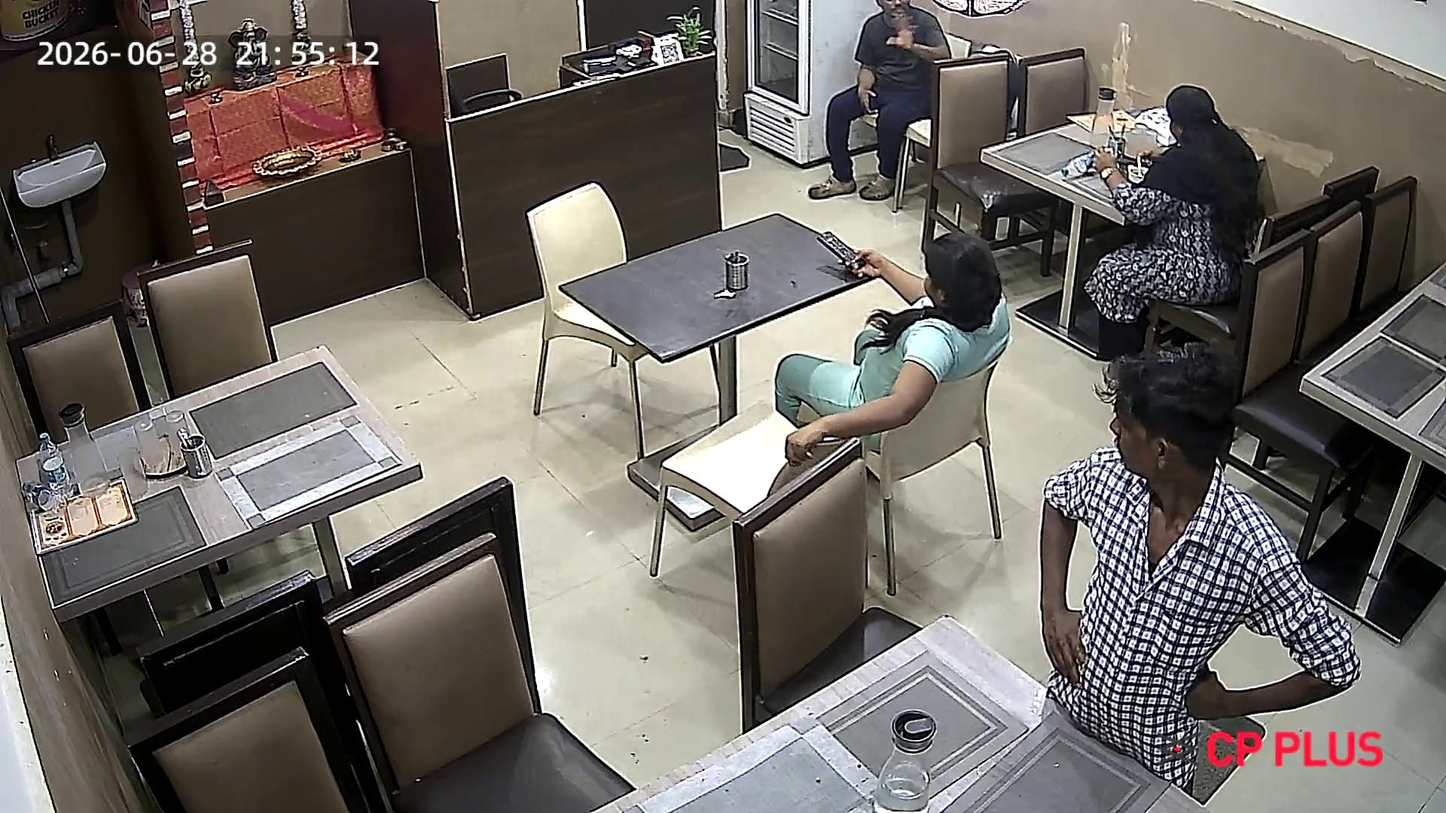dirty: (13, 339, 426, 606)
occupied: (559, 201, 989, 380), (1007, 79, 1336, 242)
